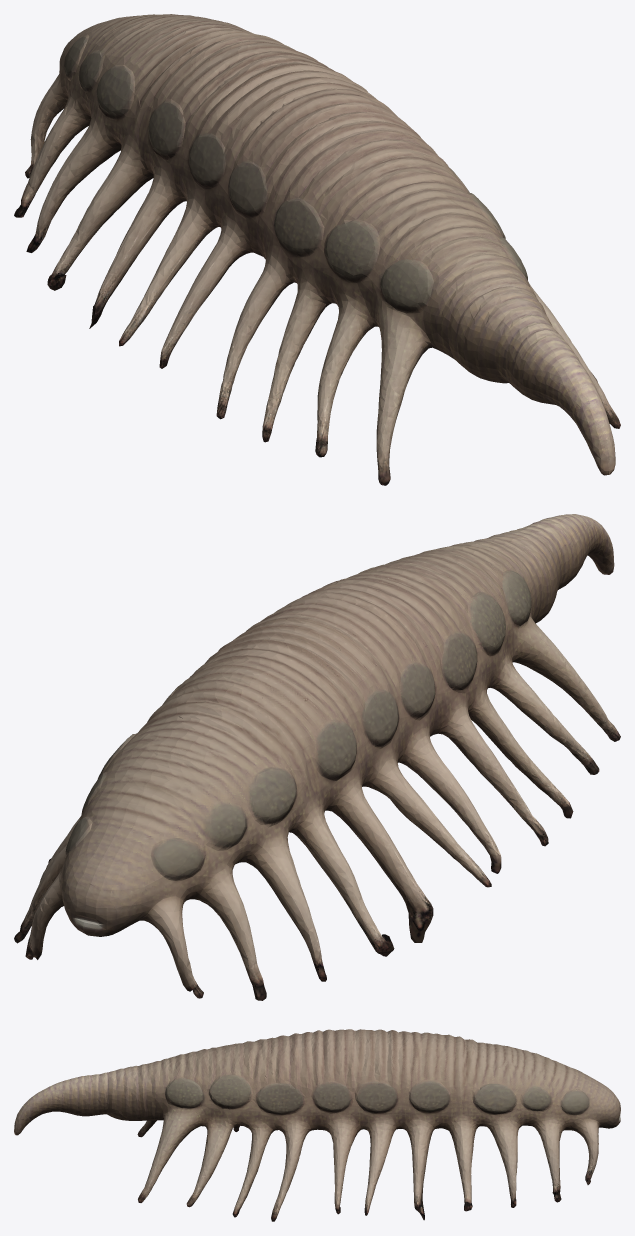
3 views of the same model, one above another, from view 1: azimuth 30°, elevation 25°; view 2: azimuth 150°, elevation 25°; view 3: azimuth 270°, elevation 25° (orthographic). The views are drawn at different scales.
Visible parts, largest first — view 1: world; view 2: world; view 3: world.
Boxes of the visible parts, <box> form: world: <box>14,14,620,485</box>; world: <box>14,514,620,1000</box>; world: <box>14,1029,620,1221</box>.
Bounding box in the file's own units: 0.0246 × 0.0154 × 0.06.
1 material, 1 textured.
